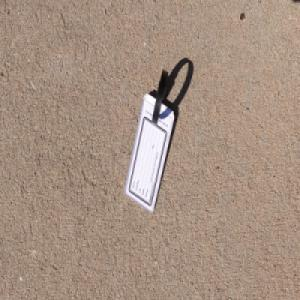LuggageTag: (123, 67, 175, 214)
